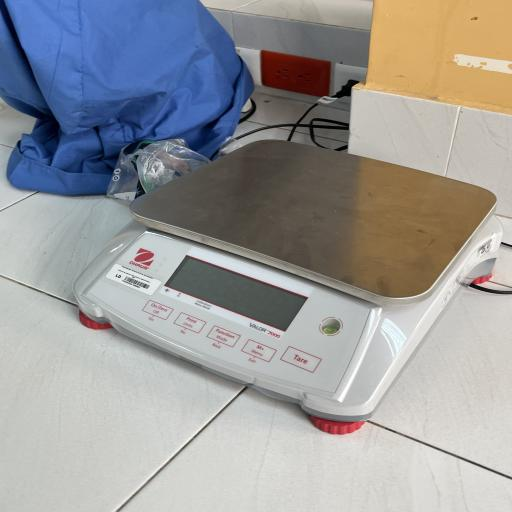Balanza_Granataria_Ohaus: (61, 135, 512, 441)
